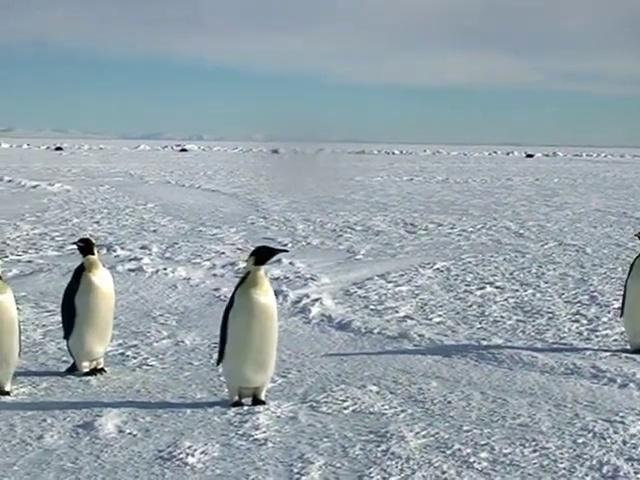animal: (217, 247, 288, 407)
